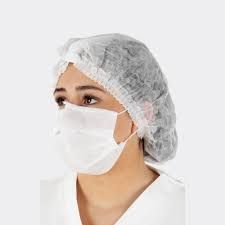with_mask_and_cap: (55, 38, 152, 175)
